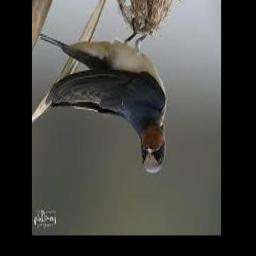Swallow: (37, 32, 167, 174)
